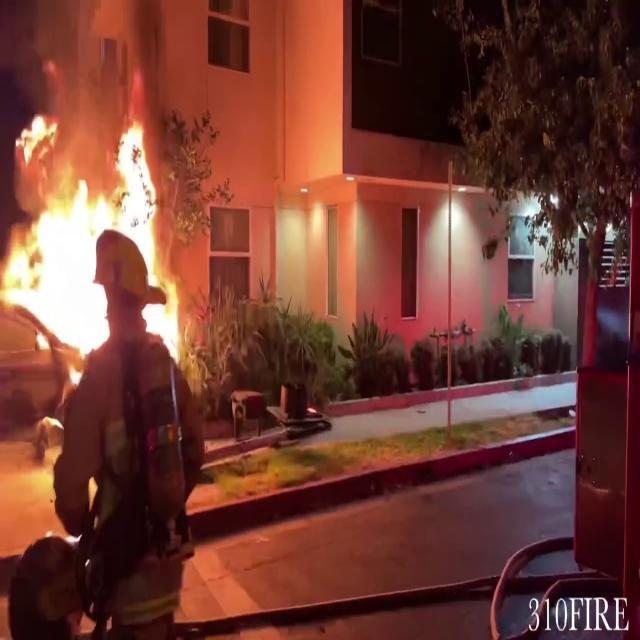Fire: (0, 102, 194, 372)
